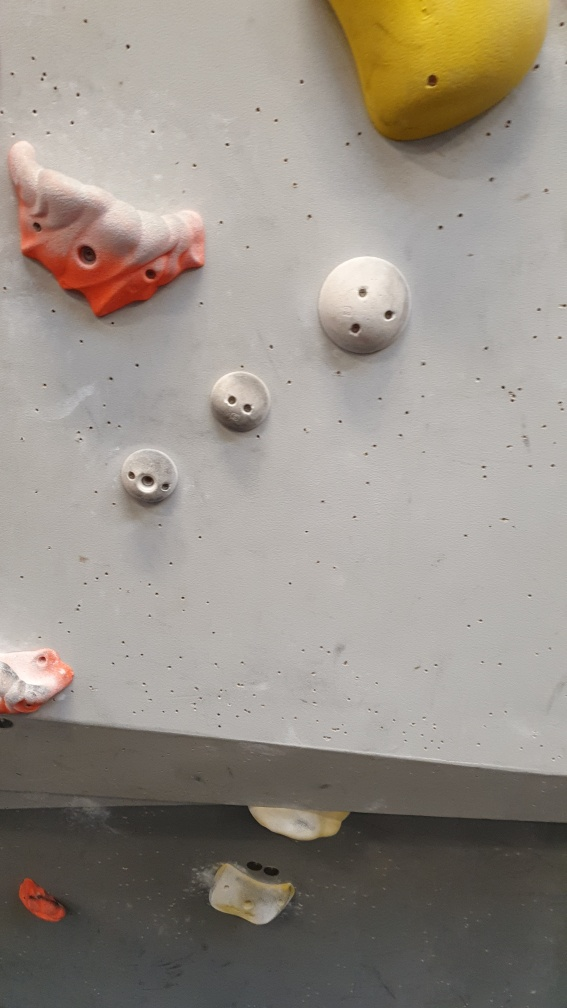Hand Start: (264, 860, 281, 882), (247, 854, 265, 872)
Jug: (6, 135, 211, 326), (16, 871, 72, 926)
Sloper: (313, 250, 413, 359), (208, 363, 273, 439), (118, 447, 183, 507)
